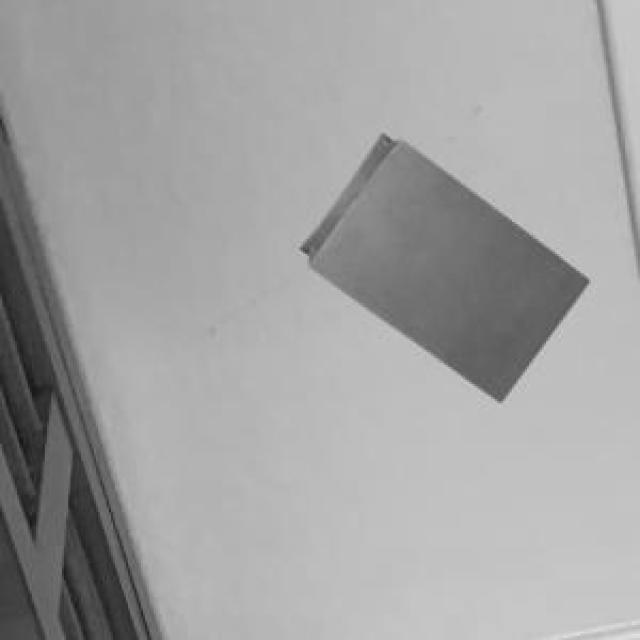paper: (297, 130, 585, 397)
